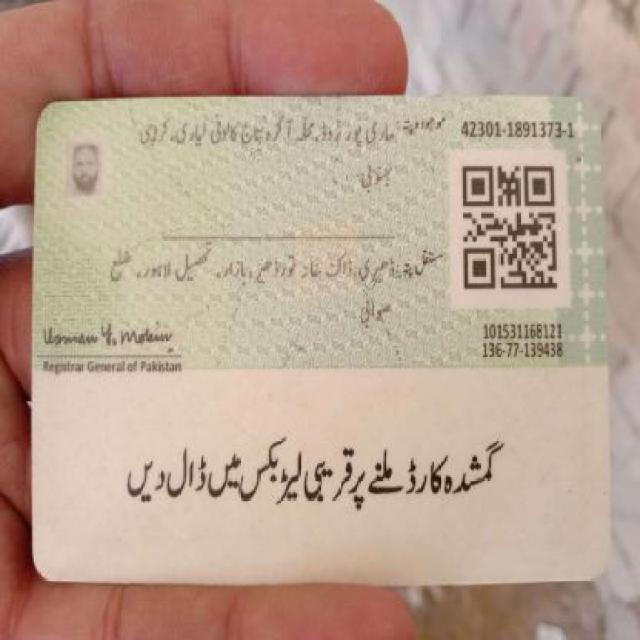Back: (27, 91, 616, 592)
